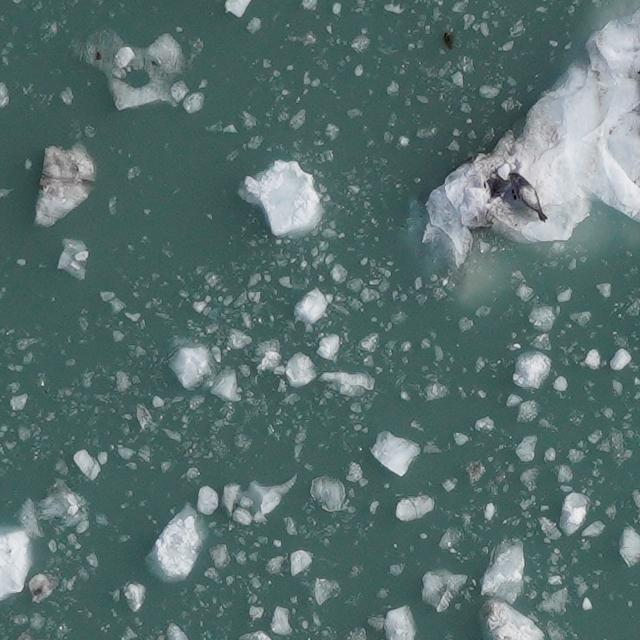seal: (504, 167, 550, 226)
